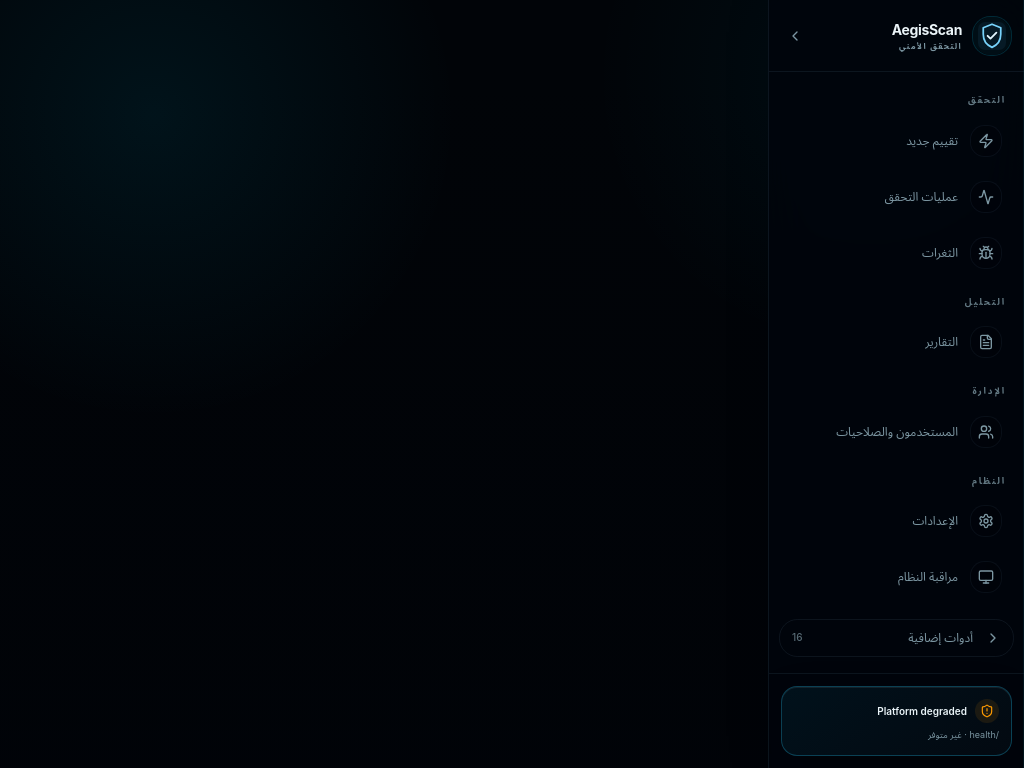
Scenario: focused sidebar navigation › shows common workflow routes and keeps advanced links accessible without duplicating them
The width and height of the screenshot is (1024, 768).
(page scrolled)
Expected: the link "تقييم جديد" is shown, [906, 124, 1002, 156]
Click the button "أدوات إضافية 16": (896, 638) [779, 619, 1014, 657]
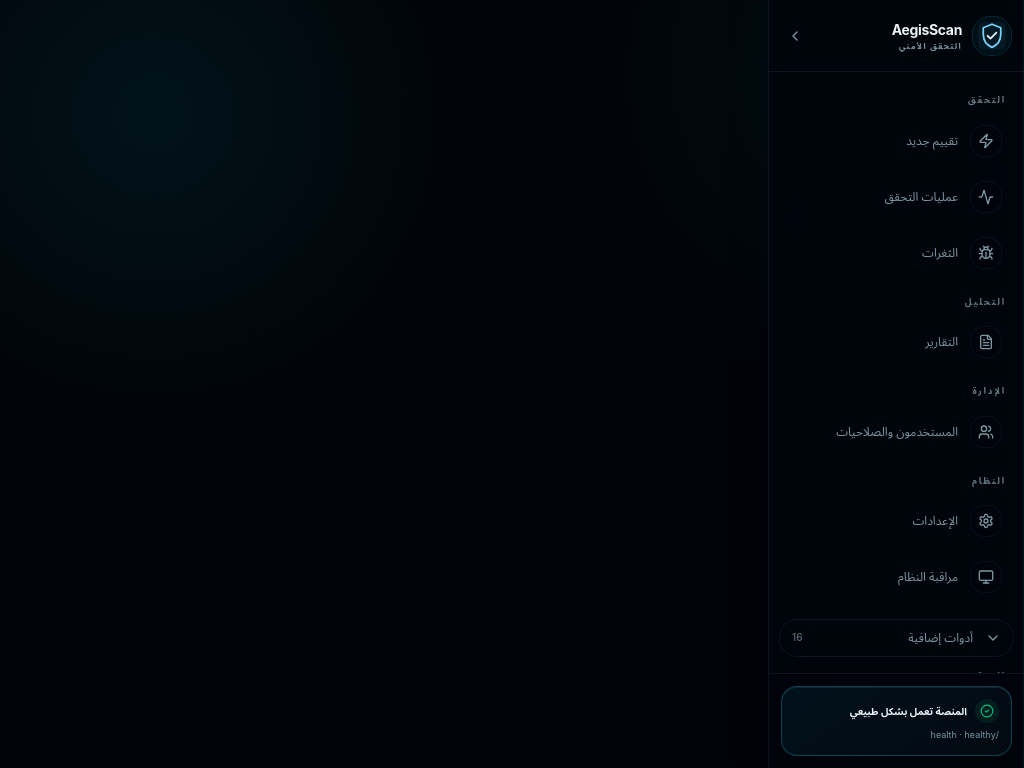
Expected: the button "أدوات إضافية 16" is expanded, [779, 619, 1014, 657]
